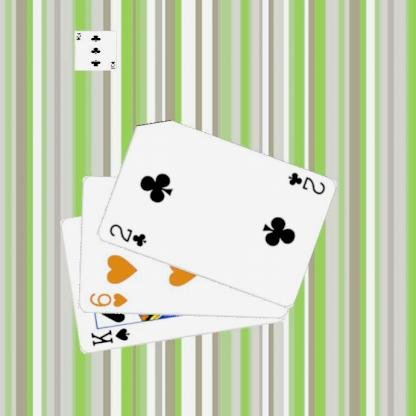2C: (106, 221, 148, 249), (285, 170, 326, 196)
6H: (87, 290, 128, 309)
KS: (87, 325, 131, 348)
